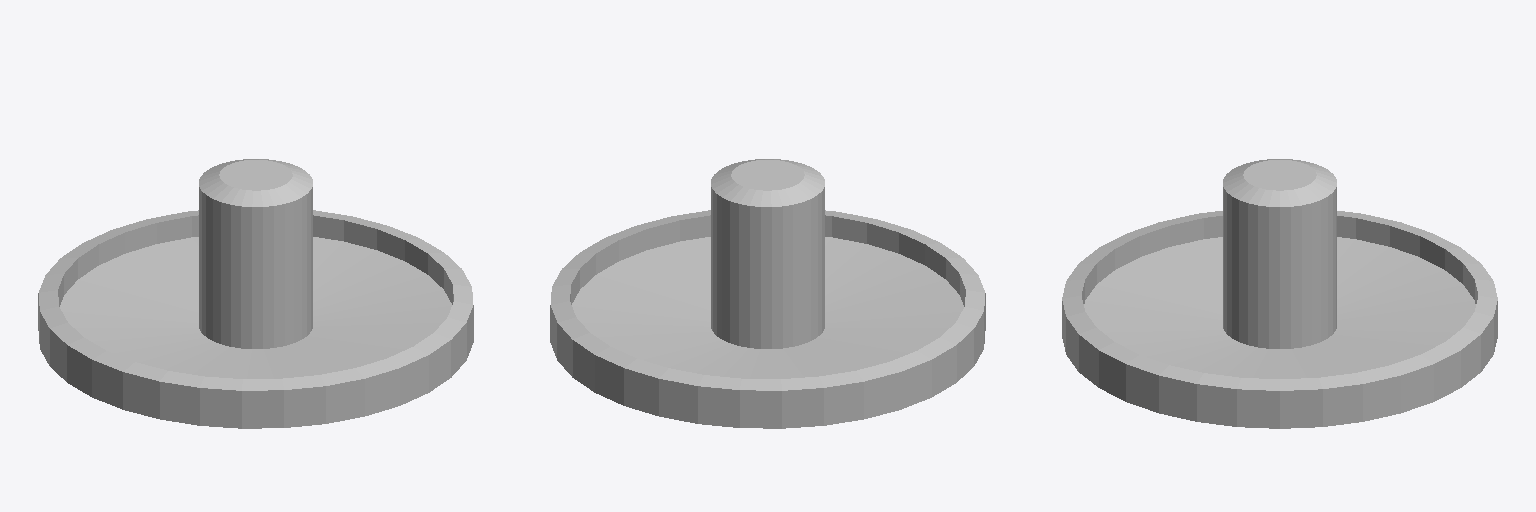
The model's file is Foutain.obj.
3 views of the same model, side by side, from view 1: azimuth 30°, elevation 25°; view 2: azimuth 150°, elevation 25°; view 3: azimuth 270°, elevation 25° (orthographic).
Parts seen in each view (by area): view 1: Foutian; view 2: Foutian; view 3: Foutian.
Part boxes in pixels (x1,y1,x2,y2): Foutian: (38,159,473,428); Foutian: (550,159,985,428); Foutian: (1062,159,1497,428).
Size of the model in its own units: 6.39 by 2.61 by 6.39.